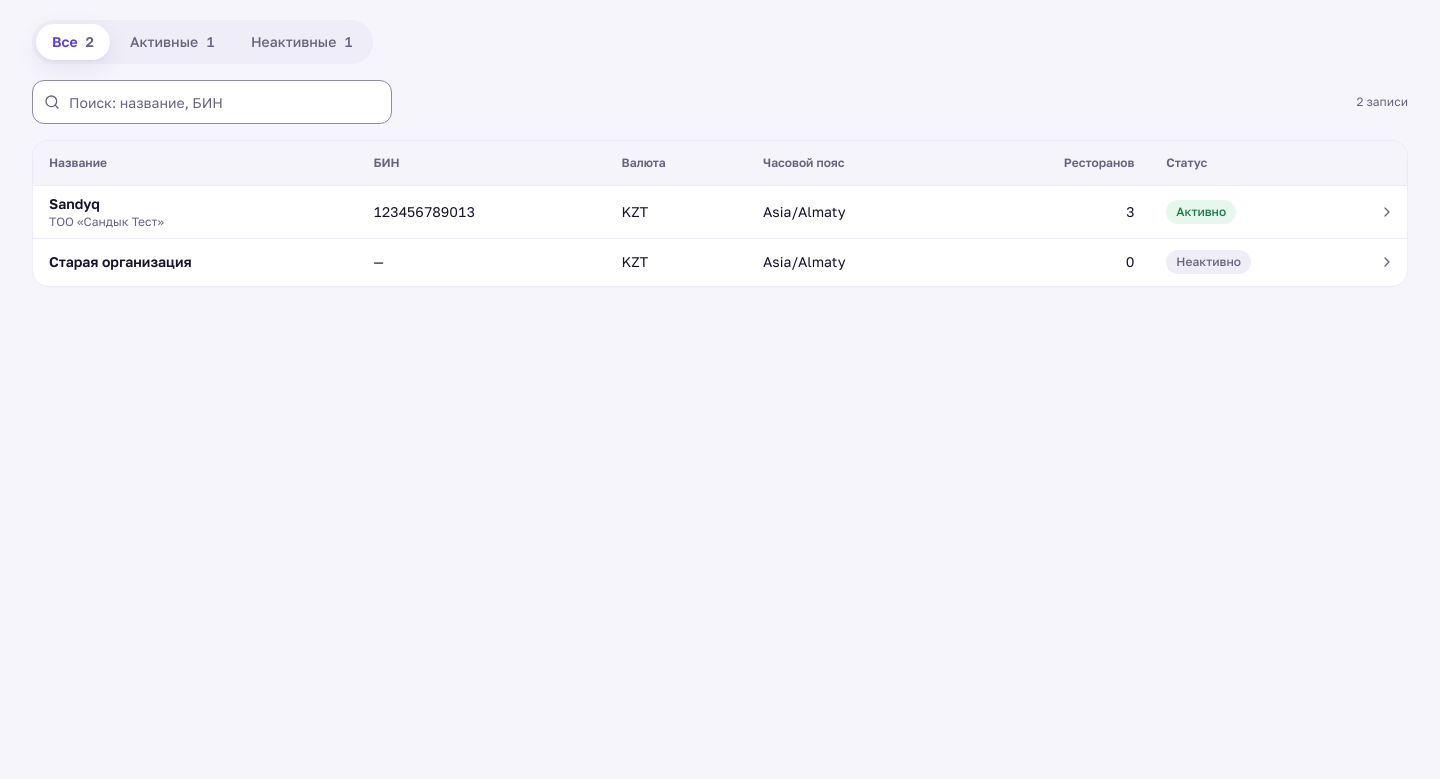
Scenario: «Организации» (W2-ADM-06) › without the edit right: no «Новая организация», no «Сохранить», fields read-only
Click the text "Sandyq" at (74, 203), box [49,194,100,212]
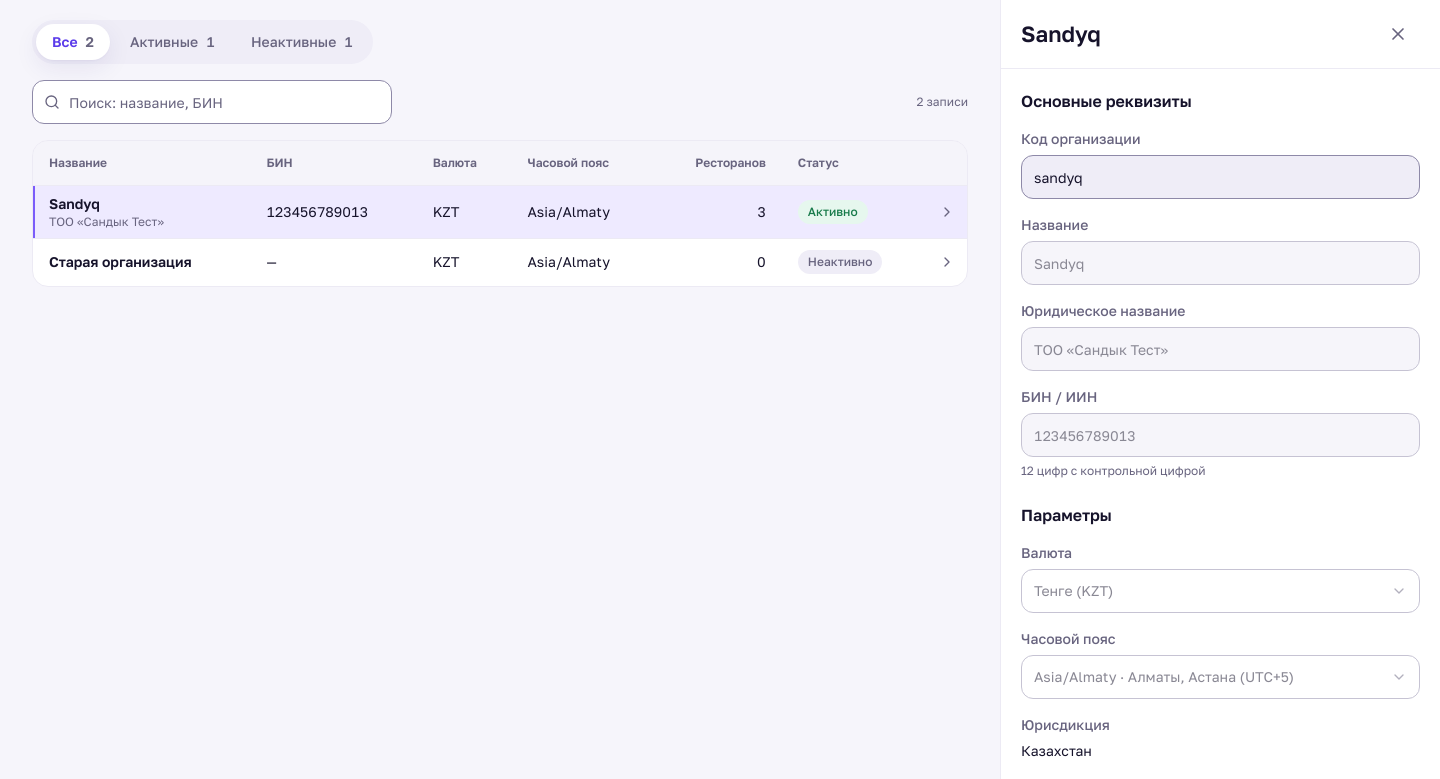
expect the field labelled "БИН / ИИН" is disabled: met, box [1021,413,1420,457]
